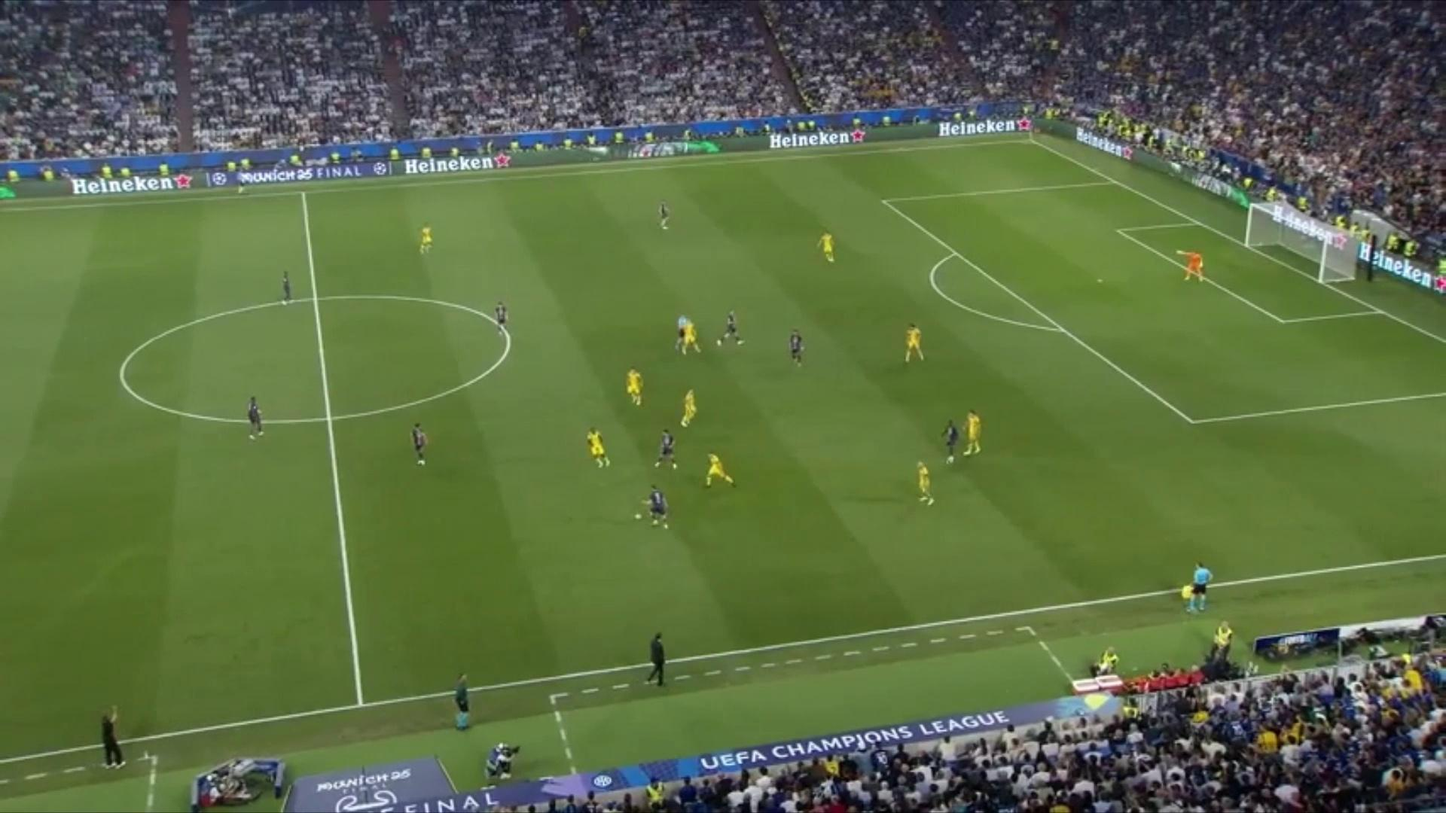ball: (635, 513, 642, 520)
player_A: (405, 419, 434, 470), (653, 428, 685, 472), (241, 394, 267, 443), (938, 416, 962, 467), (645, 486, 671, 533), (487, 300, 511, 340), (723, 308, 745, 349), (786, 328, 809, 364), (275, 271, 296, 310), (655, 200, 672, 234)
player_B: (582, 424, 614, 474), (910, 456, 939, 508), (703, 450, 737, 493), (621, 367, 651, 411), (964, 401, 985, 459), (819, 226, 840, 271), (904, 323, 927, 364), (415, 220, 436, 263), (681, 388, 700, 429), (684, 322, 699, 359)
player_B_goal_keeper: (1176, 243, 1207, 287)
referee: (447, 670, 477, 732), (1182, 560, 1214, 611), (672, 309, 690, 350), (232, 166, 252, 199)
